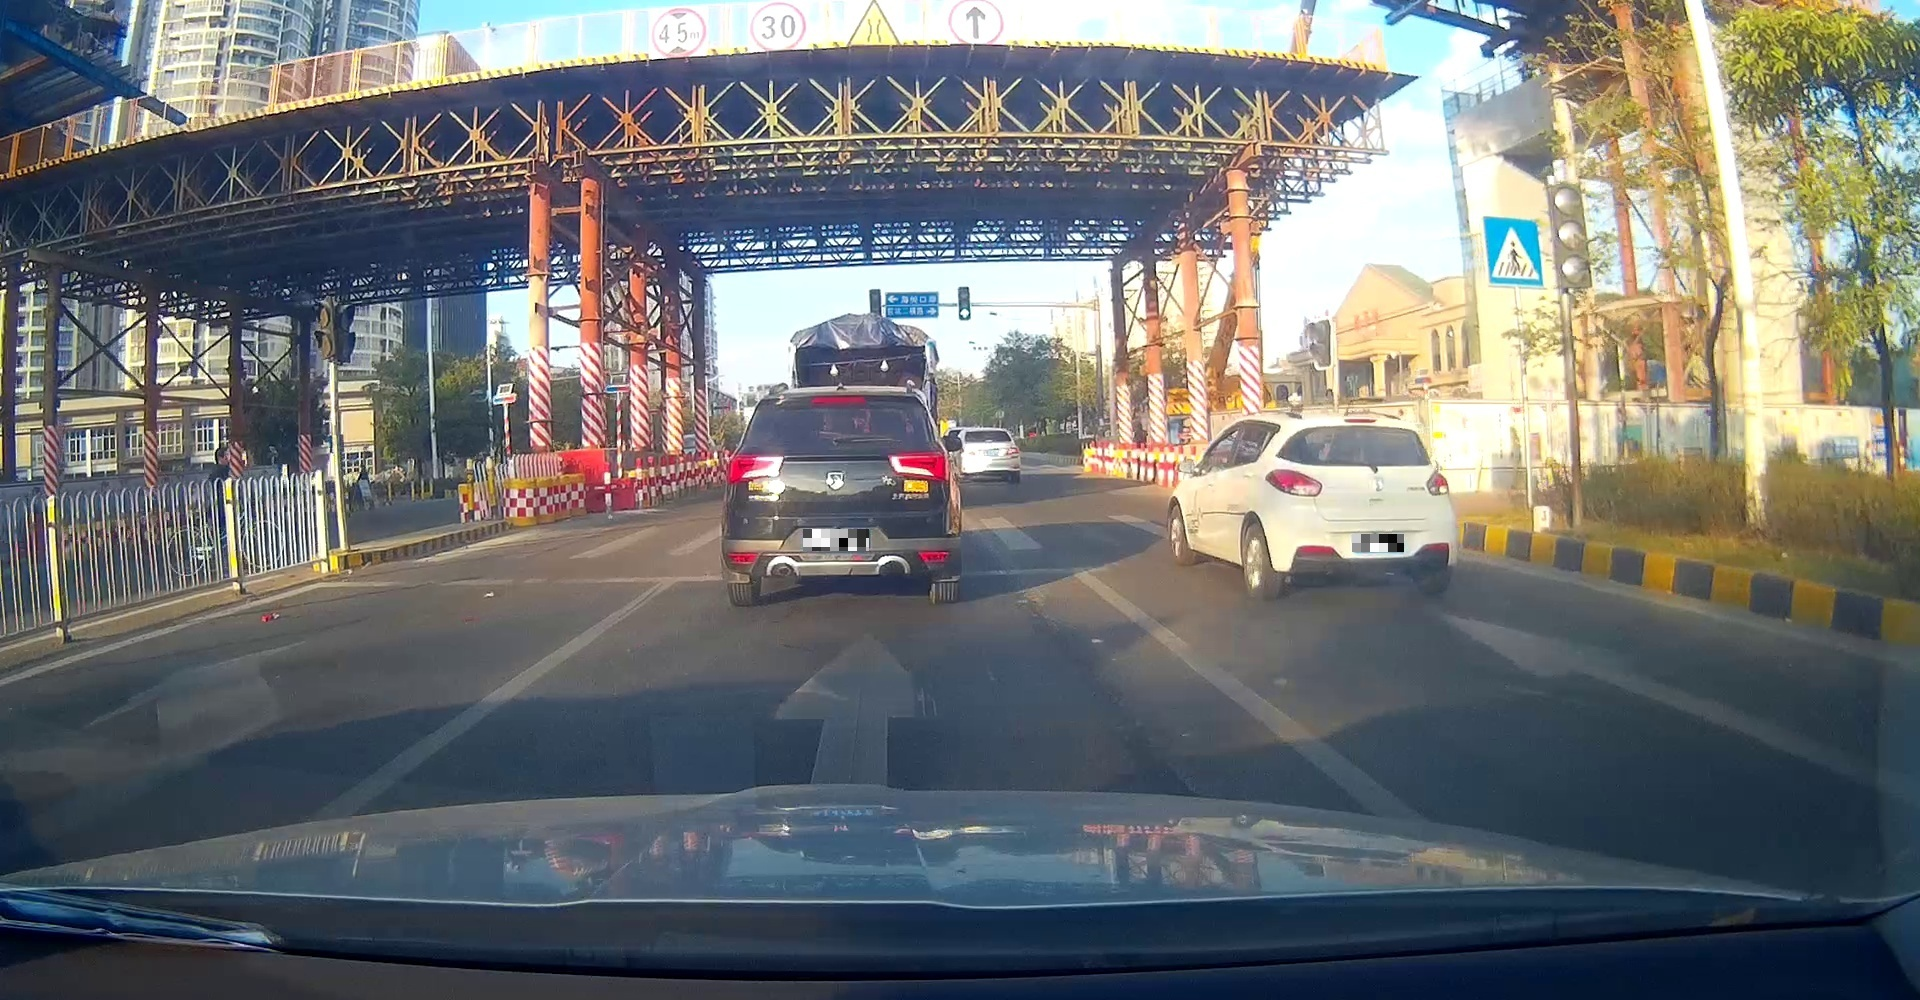L_light: (726, 454, 783, 484), (1265, 470, 1322, 497), (961, 449, 974, 456)
R_light: (888, 451, 951, 484), (1426, 470, 1450, 496), (1004, 447, 1018, 456)
T_light: (809, 393, 867, 406), (1342, 418, 1378, 425), (984, 439, 993, 442)
day-no: (723, 385, 952, 605), (1263, 416, 1451, 599), (959, 426, 1018, 484)
plate_1: (803, 529, 869, 551)
plate_2: (1352, 534, 1404, 552)
